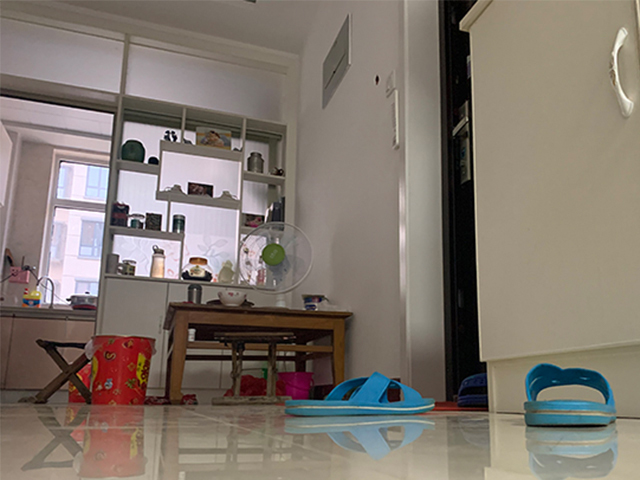cabinet: (98, 278, 288, 400), (1, 304, 95, 402)
carpet: (434, 400, 490, 412)
slippers: (284, 370, 436, 415), (522, 362, 619, 429), (456, 372, 490, 408)
stool: (211, 331, 294, 406), (19, 339, 93, 405)
table: (161, 300, 354, 405)
trashcan: (88, 334, 156, 405), (67, 359, 94, 403)
